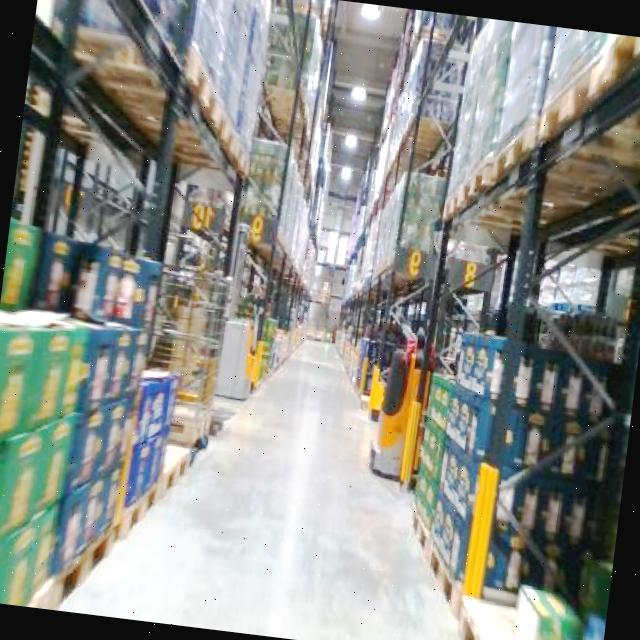ground: (37, 302, 538, 640)
pallet: (300, 5, 640, 640), (0, 212, 223, 623), (394, 317, 640, 640)
